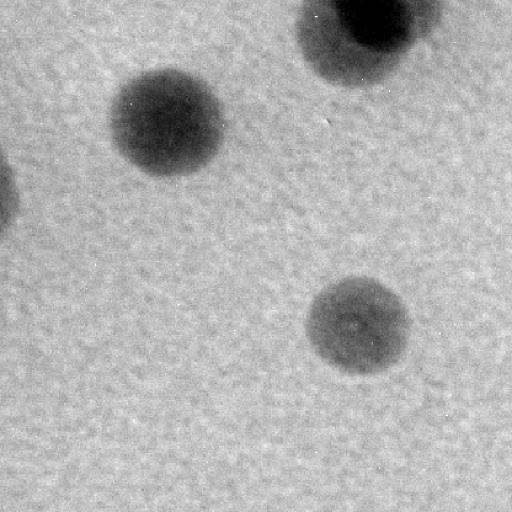Nanoparticles: (106, 66, 222, 182), (304, 273, 416, 379), (294, 2, 418, 92), (323, 0, 443, 54), (0, 146, 20, 241)
